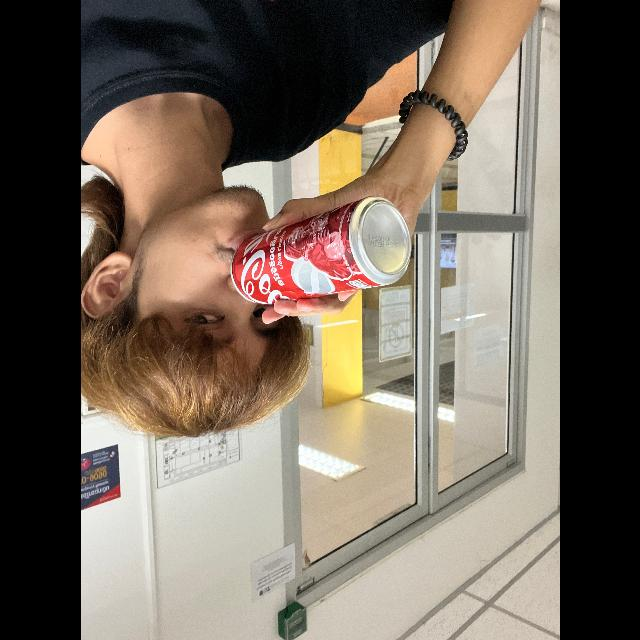can: (218, 194, 422, 304)
